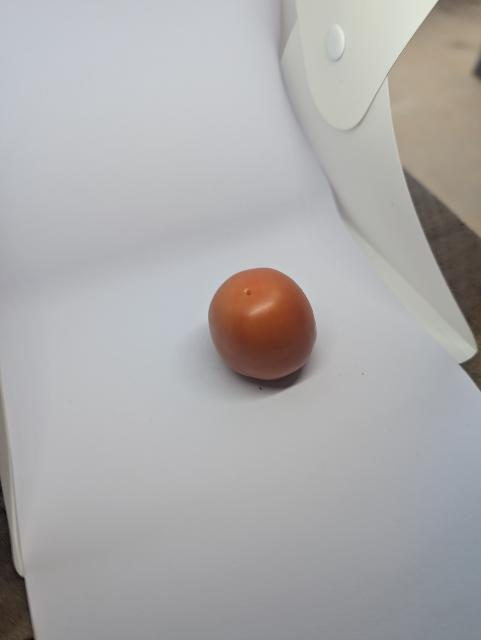red: (180, 258, 335, 405)
